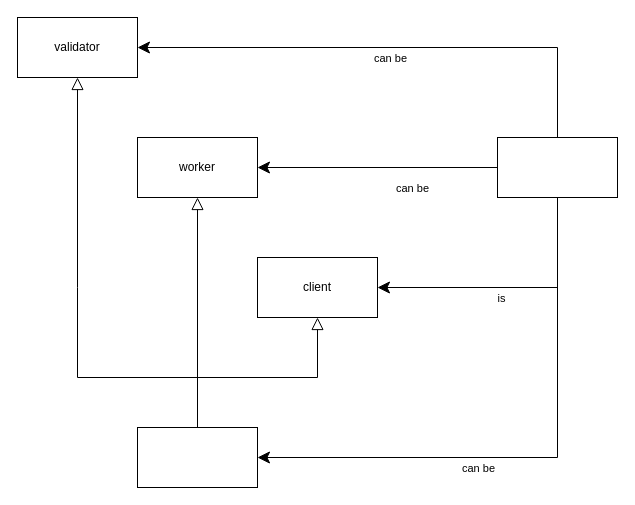
This 635x505 diagram has some shape labels left out. Each missing label, with the centre of its shape:
admin: point (197, 457)
user: point (557, 167)
